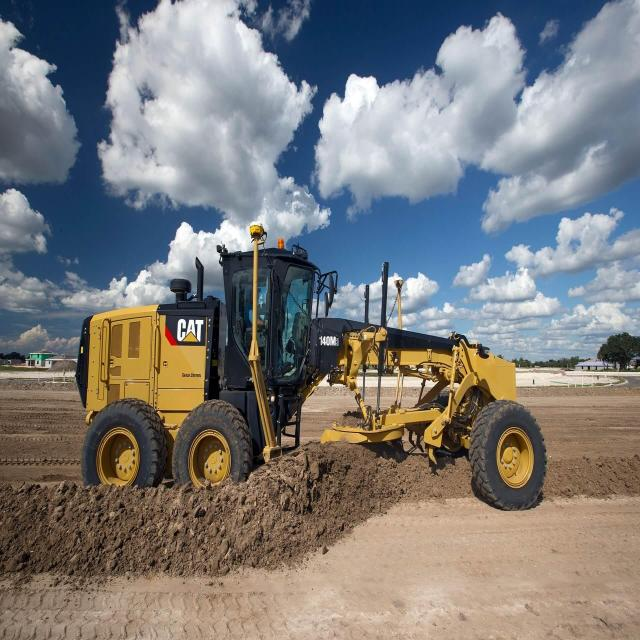buldozerpayloadergrader: (71, 236, 551, 516)
